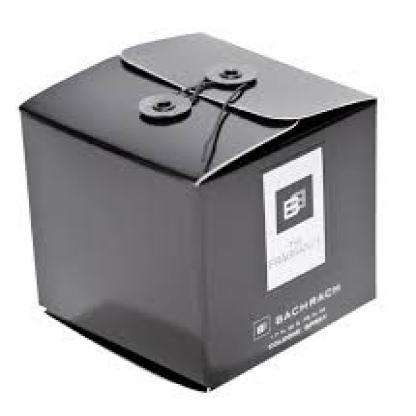CARDBOARD: (18, 32, 374, 389)
